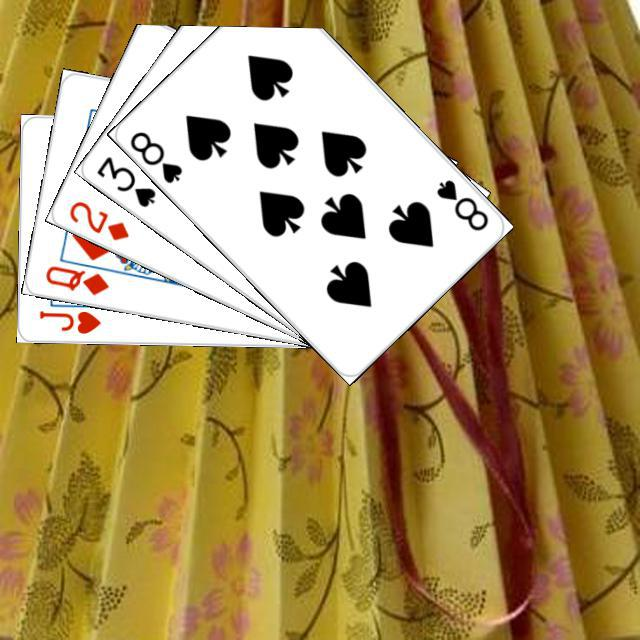2d: (64, 196, 131, 243)
3s: (91, 151, 158, 209)
8s: (124, 126, 184, 185), (431, 174, 490, 233)
Jh: (34, 306, 103, 336)
Qd: (40, 260, 110, 297)
